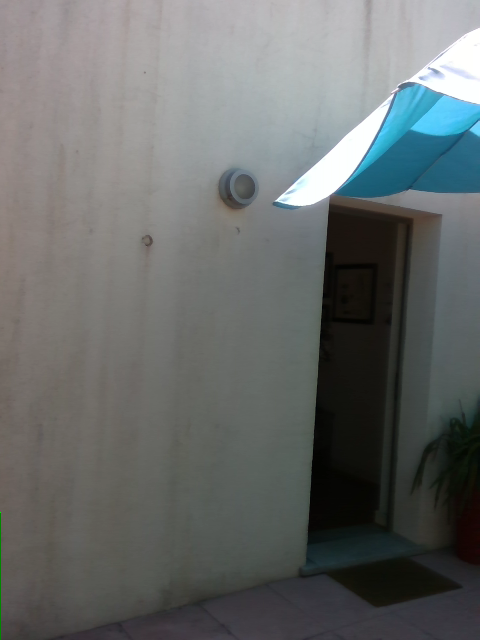open: (330, 194, 444, 546)
